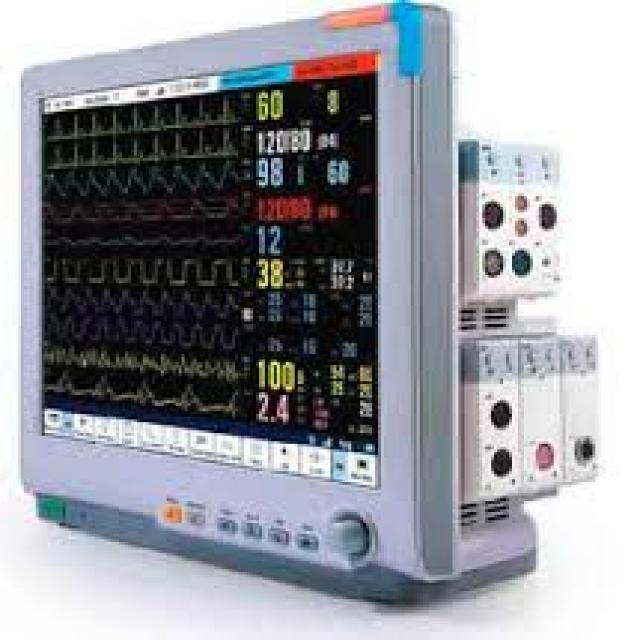cardiac_monitor: (21, 70, 443, 547)
